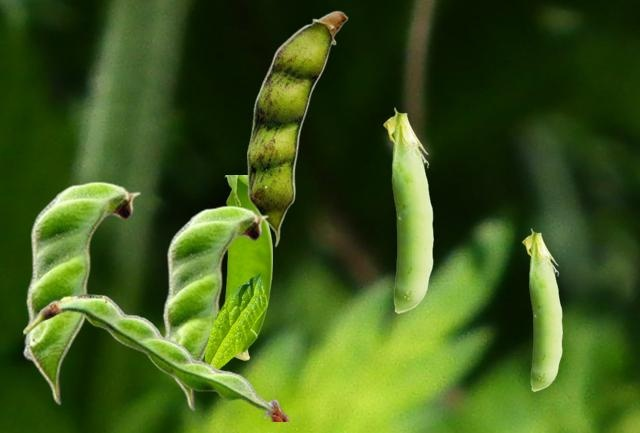pea: (23, 294, 289, 420), (22, 181, 140, 404), (247, 10, 347, 246), (160, 205, 268, 410), (383, 107, 432, 312), (224, 175, 271, 359), (522, 228, 561, 390)
